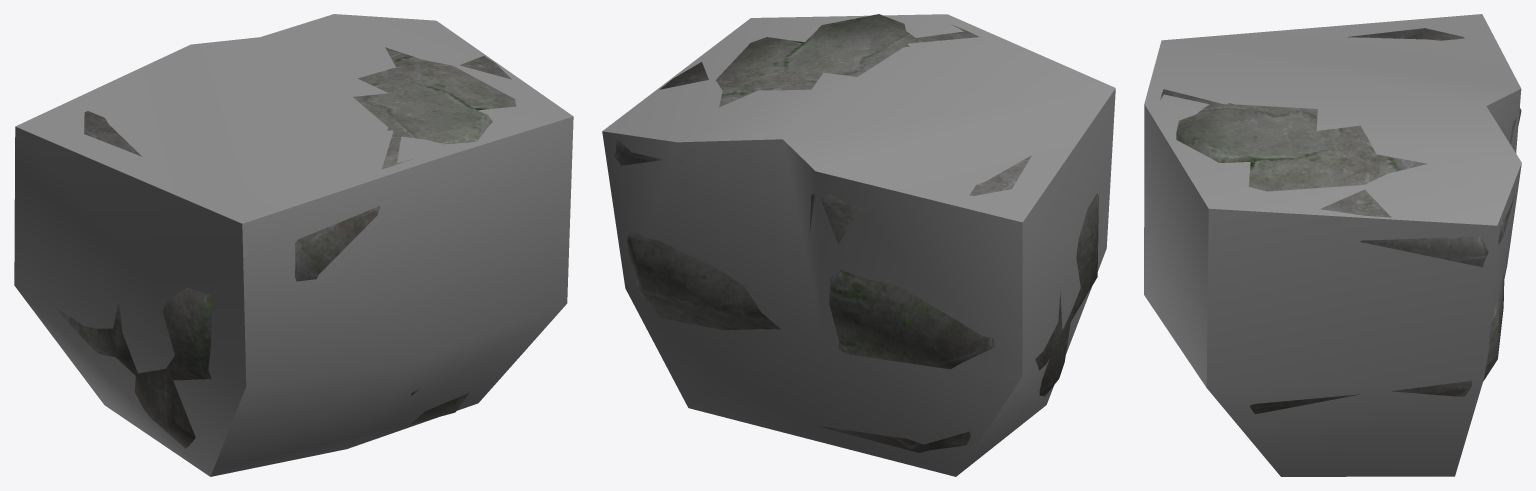
Rendered from Scene_Rock_HeBianShi_3a.FBX.
3 views of the same model, side by side, from view 1: azimuth 30°, elevation 25°; view 2: azimuth 150°, elevation 25°; view 3: azimuth 270°, elevation 25° (orthographic). The views are drawn at different scales.
Visible parts, largest first — view 1: Scene_Rock_HeBianShi_3a_Xzm, Scene_Rock_HeBianShi_3a; view 2: Scene_Rock_HeBianShi_3a_Xzm, Scene_Rock_HeBianShi_3a; view 3: Scene_Rock_HeBianShi_3a_Xzm, Scene_Rock_HeBianShi_3a.
Boxes of the visible parts, box(x1,y1,x2,y2) form: Scene_Rock_HeBianShi_3a_Xzm: box(14, 14, 573, 476); Scene_Rock_HeBianShi_3a: box(53, 47, 516, 448); Scene_Rock_HeBianShi_3a_Xzm: box(602, 14, 1115, 476); Scene_Rock_HeBianShi_3a: box(614, 14, 1098, 452); Scene_Rock_HeBianShi_3a_Xzm: box(1144, 14, 1521, 476); Scene_Rock_HeBianShi_3a: box(1160, 28, 1521, 414).
Bounding box in the file's own units: 648 × 465 × 498.
